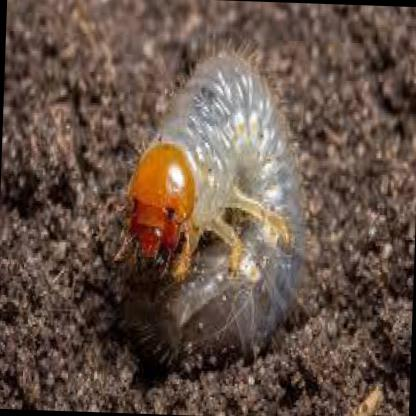root grubs: (128, 50, 303, 362)
